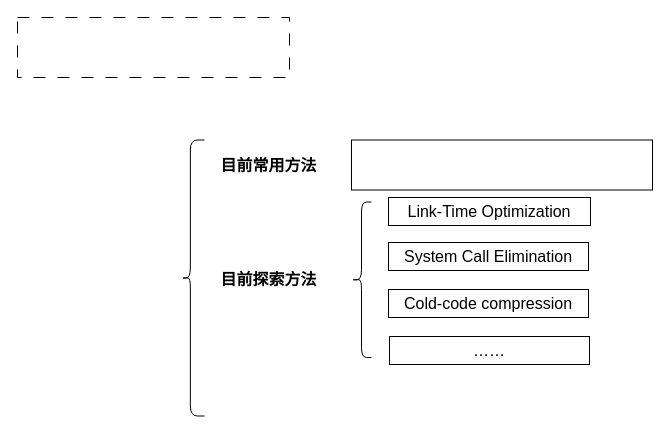
Some shapes in this 670 by 434 pixel diagram are drawn without their labels. The box of each missing label's shape, as (x1, y1, x2, y2) in pixels:
configuration-driven techniques: (350, 139, 652, 190)
Linux内核尺寸缩减方法总结: (16, 16, 290, 78)
